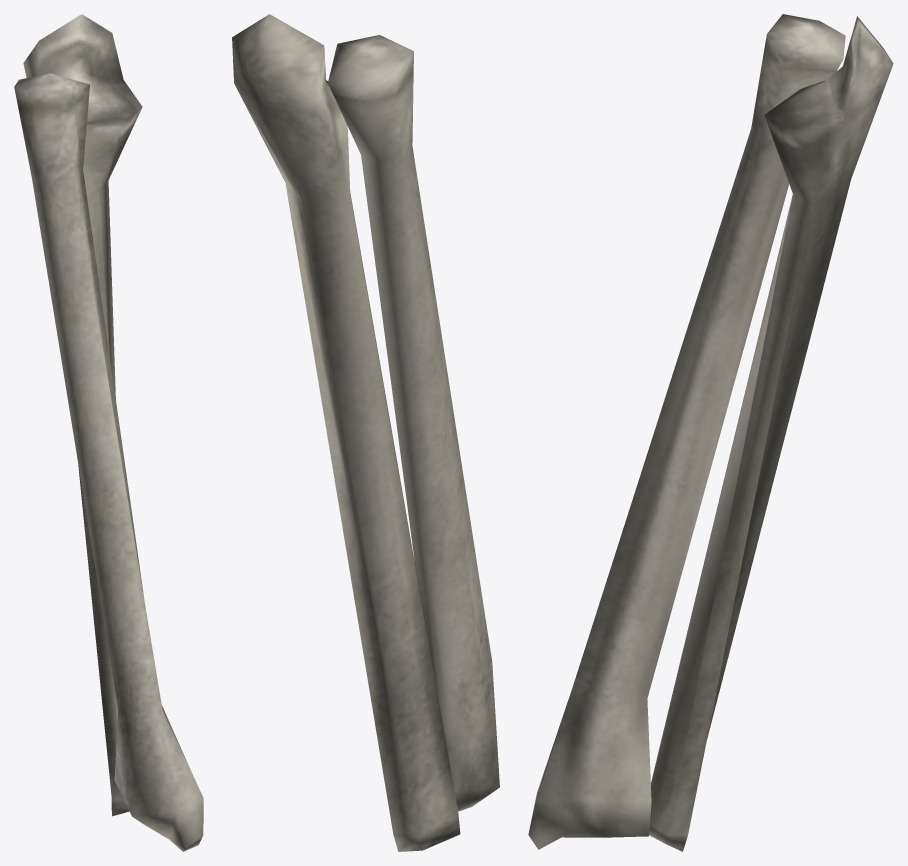
The model's file is anteBrazoDer.obj.
3 renders of one model, left to right at view 1: azimuth 30°, elevation 25°; view 2: azimuth 150°, elevation 25°; view 3: azimuth 270°, elevation 25°, orthographic. The views are drawn at different scales.
Visible parts, largest first — view 1: anteBrazoDer; view 2: anteBrazoDer; view 3: anteBrazoDer.
Part boxes in pixels (x1,y1,x2,y2): anteBrazoDer: (14,14,203,851); anteBrazoDer: (232,14,499,851); anteBrazoDer: (528,14,893,851).
Bounding box in the file's own units: 0.0503 × 0.2922 × 0.1144.
